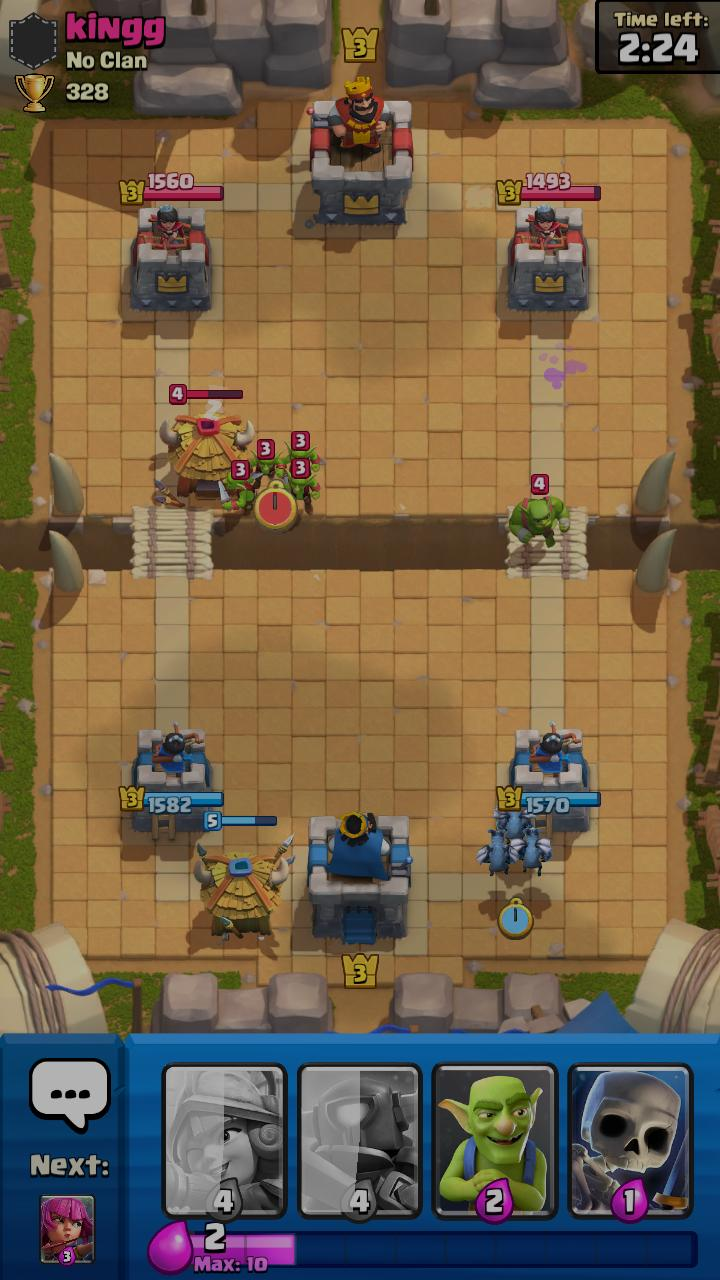ally: (194, 811, 295, 941), (511, 827, 552, 877), (477, 829, 519, 876), (492, 803, 536, 844)
enemy: (154, 384, 256, 508), (510, 474, 571, 548), (281, 431, 320, 484), (218, 460, 256, 514), (285, 459, 321, 516), (248, 439, 289, 488)
